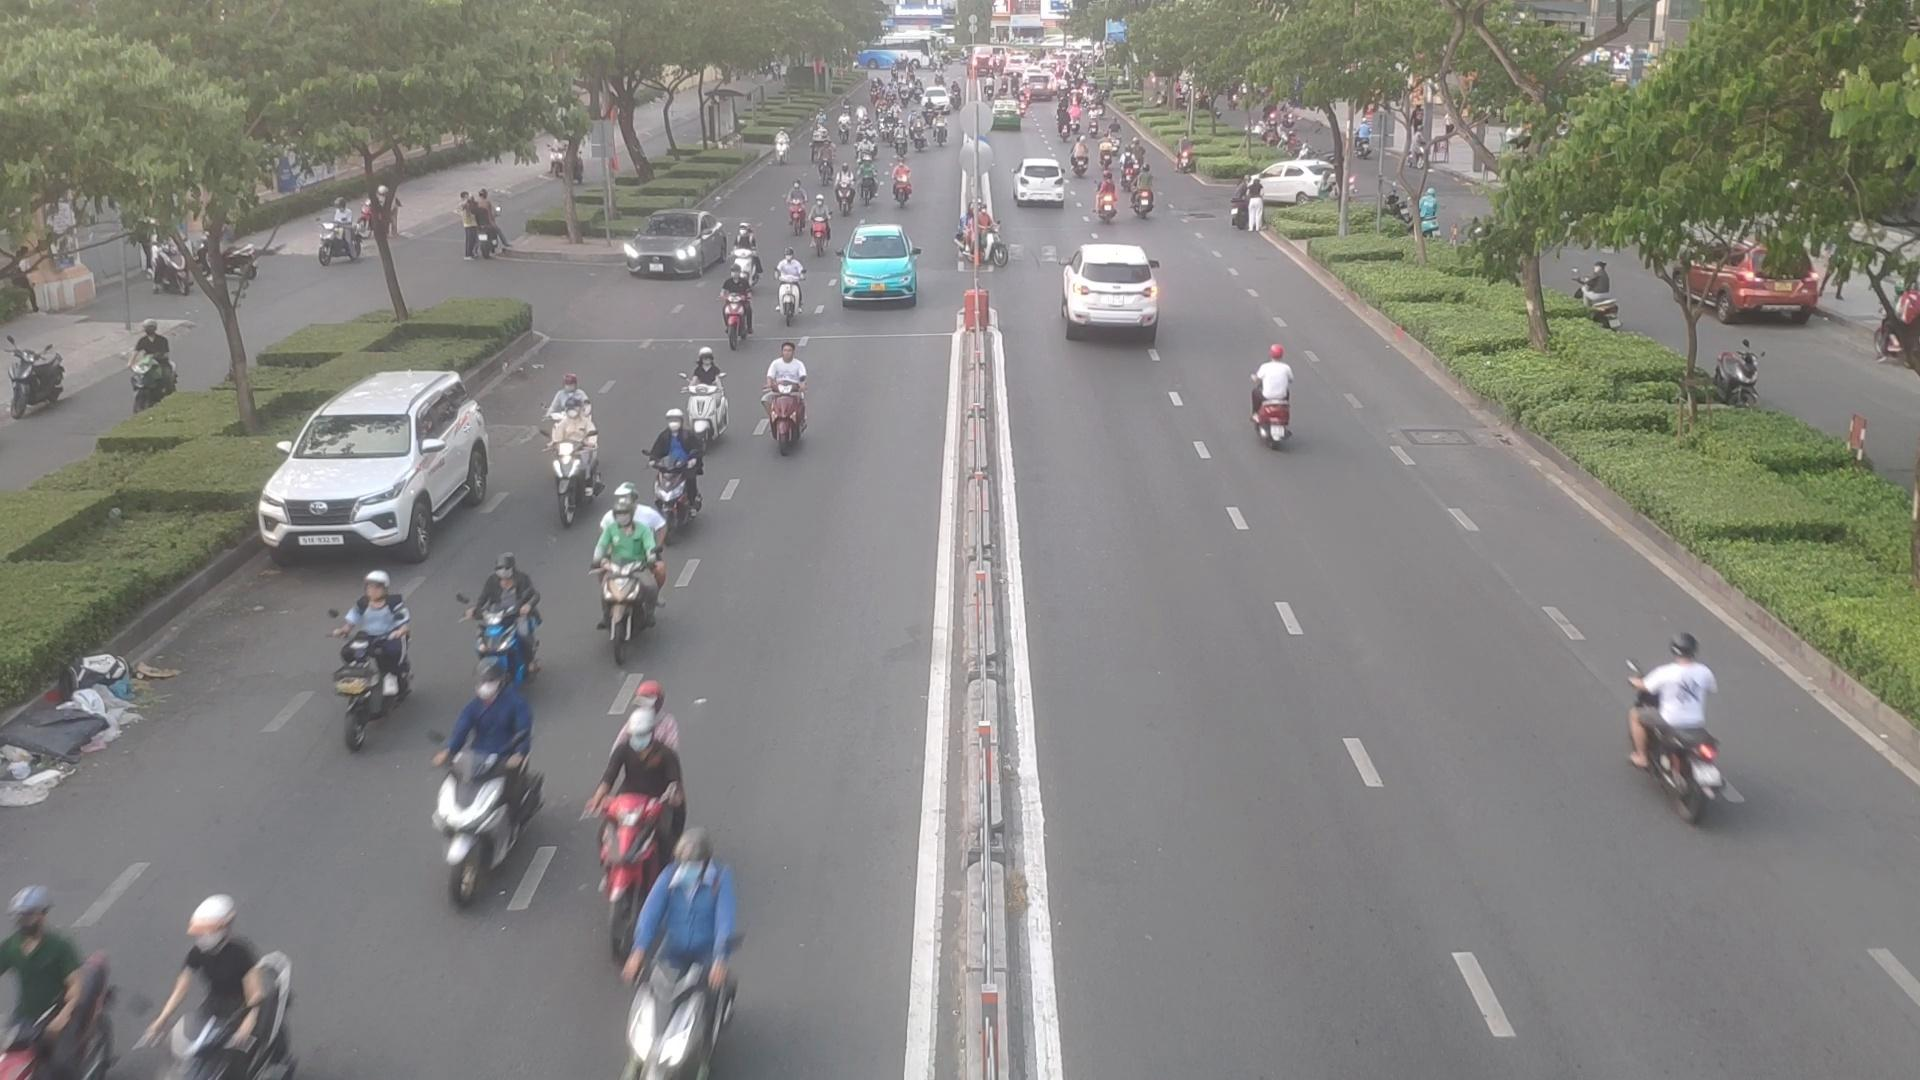car: (260, 371, 498, 568), (1068, 241, 1167, 336), (622, 214, 738, 281), (836, 225, 920, 310), (1013, 157, 1072, 208)
motorbike: (1610, 638, 1753, 840), (438, 665, 559, 891), (165, 899, 322, 1073), (625, 837, 736, 1067), (596, 713, 716, 902), (600, 481, 666, 644), (334, 568, 411, 704), (752, 335, 819, 451), (467, 568, 535, 680), (554, 407, 612, 534), (647, 413, 702, 526), (1250, 335, 1294, 440), (680, 348, 732, 436), (953, 214, 1004, 266), (719, 265, 754, 339), (769, 247, 803, 314), (735, 228, 761, 282), (887, 161, 916, 210), (1095, 173, 1122, 220), (1138, 167, 1163, 219), (785, 177, 808, 229), (812, 193, 829, 249), (835, 165, 855, 214), (815, 142, 835, 189), (1116, 146, 1137, 187), (860, 154, 877, 202), (856, 136, 872, 162)
